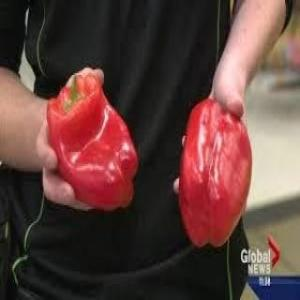bell_pepper: (44, 63, 140, 213)
